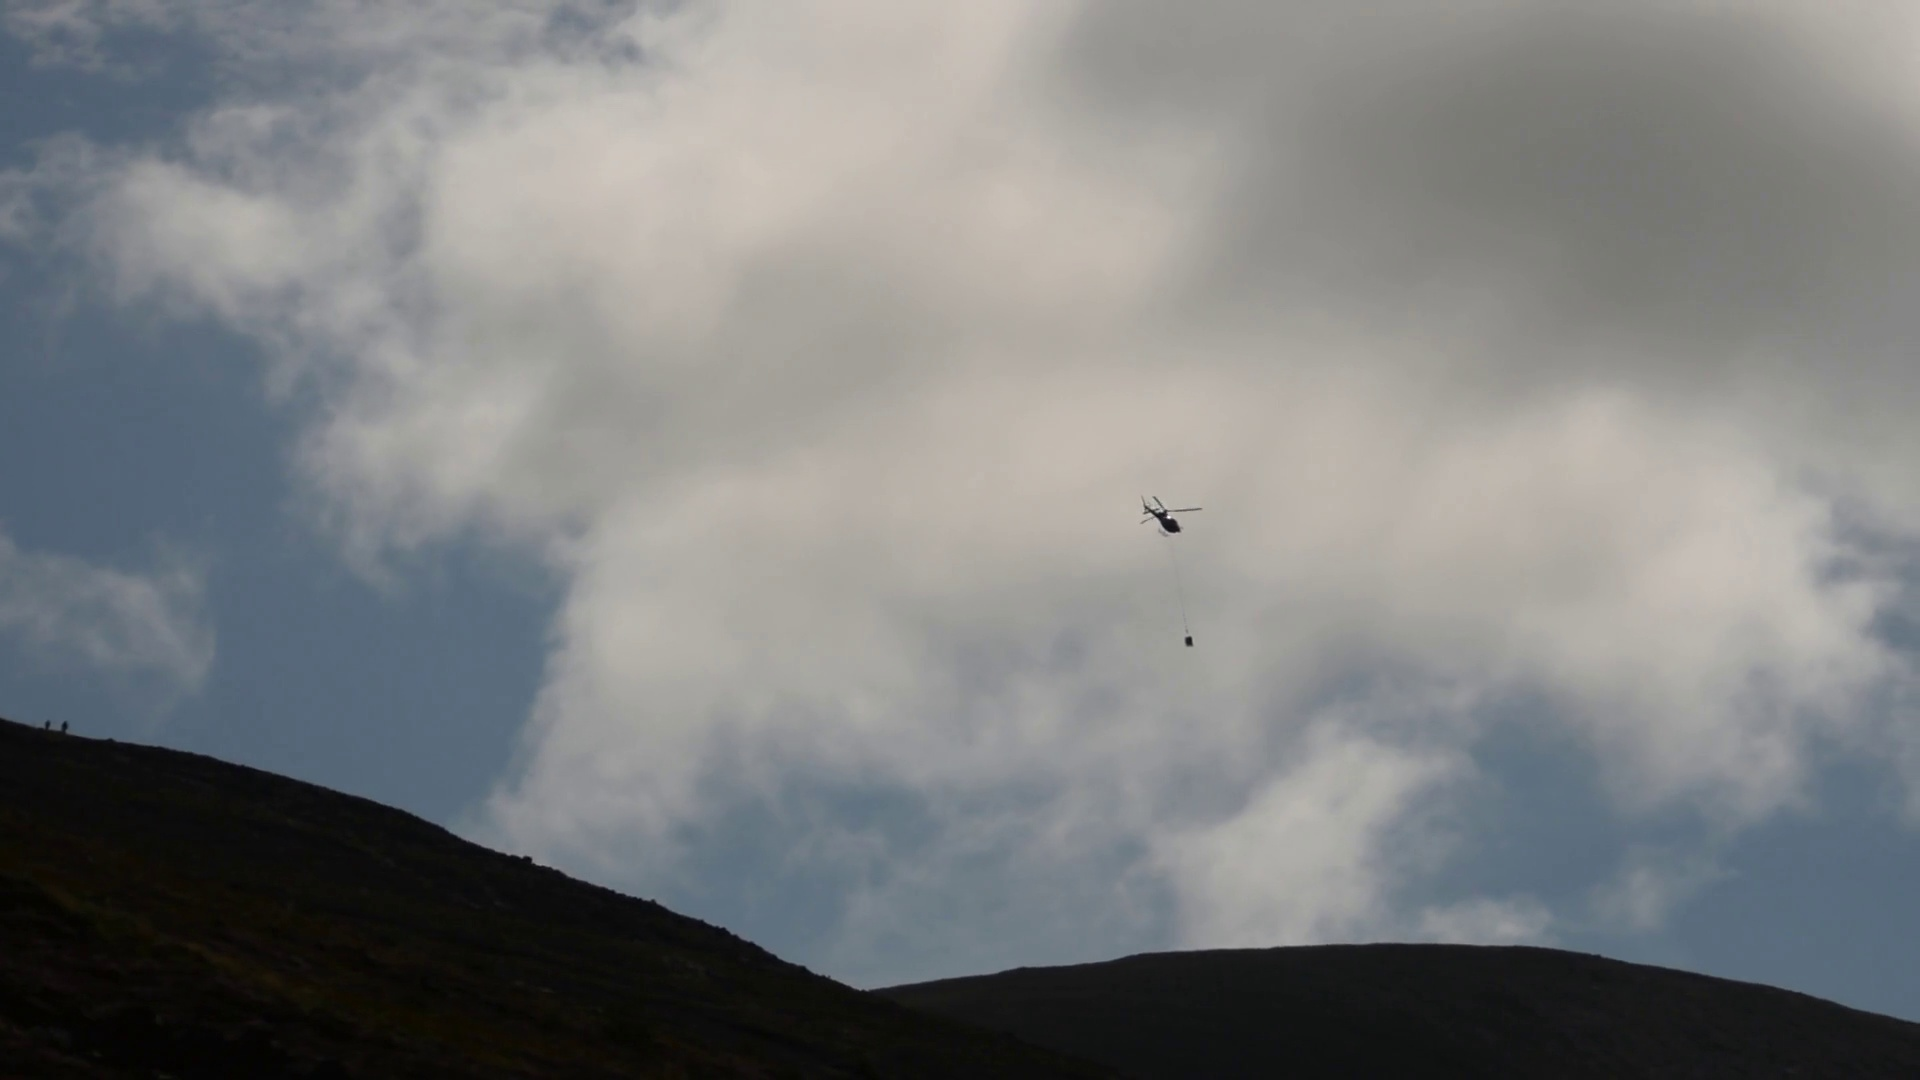heli: (1133, 495, 1201, 538)
